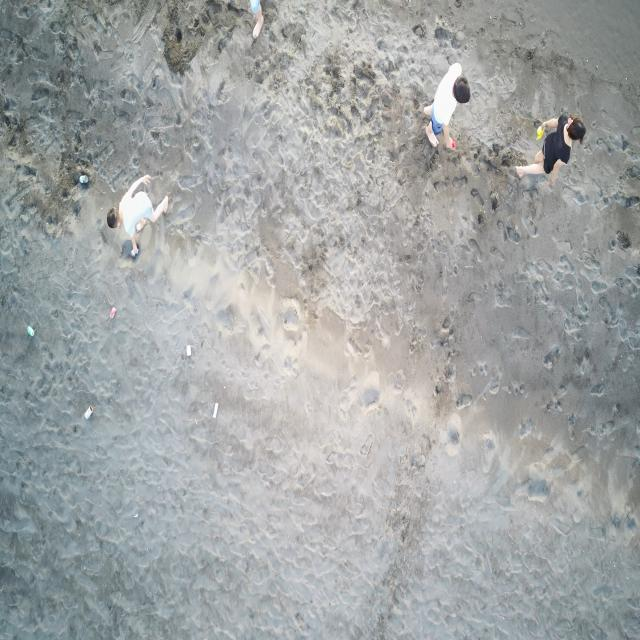Garbage: (535, 124, 543, 140), (83, 405, 92, 419), (108, 306, 116, 319), (77, 173, 88, 182), (212, 404, 218, 417), (26, 325, 33, 335), (186, 344, 191, 355), (451, 136, 455, 148)
